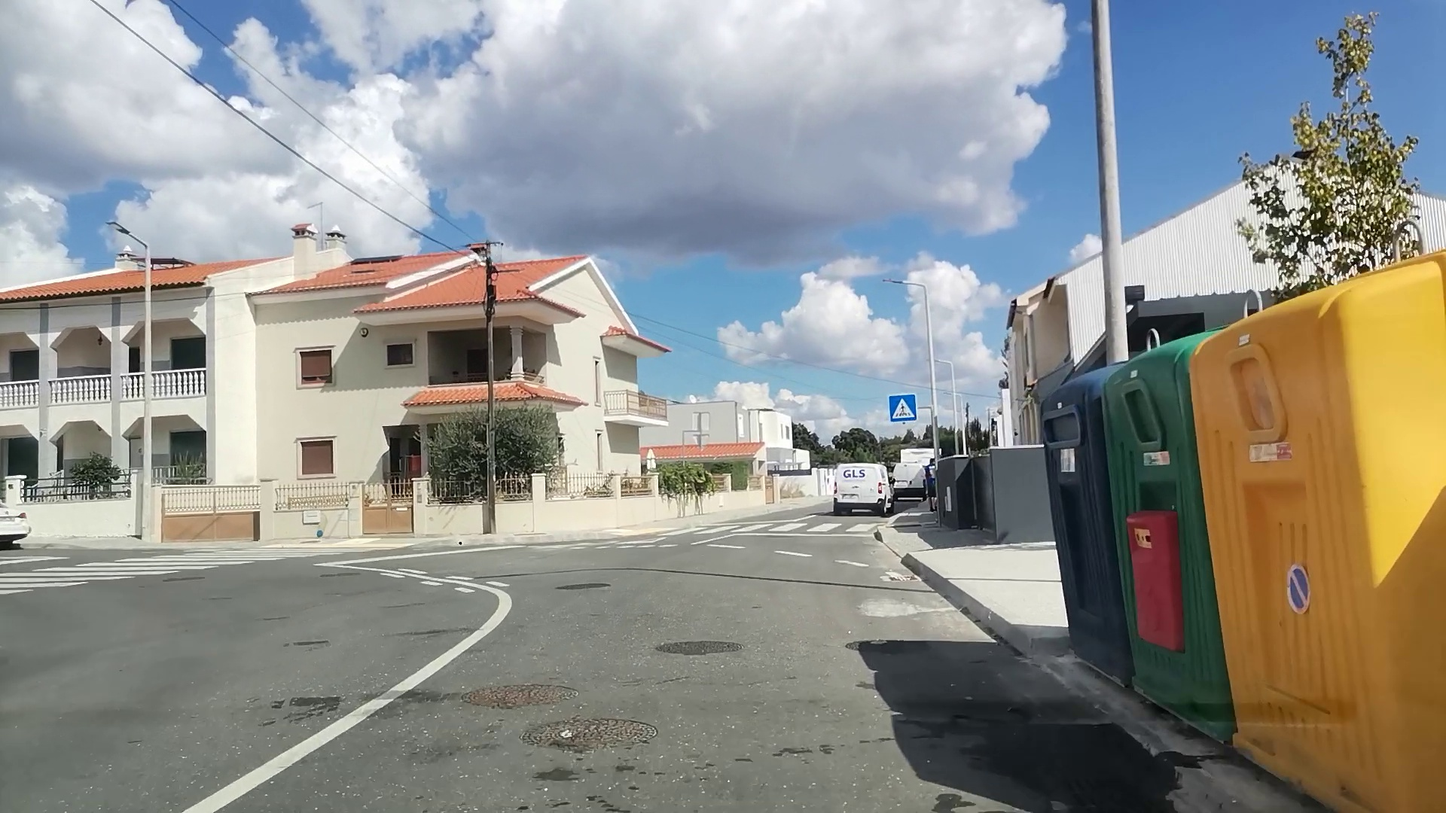Stairs: (5, 546, 365, 602), (659, 522, 880, 539)
